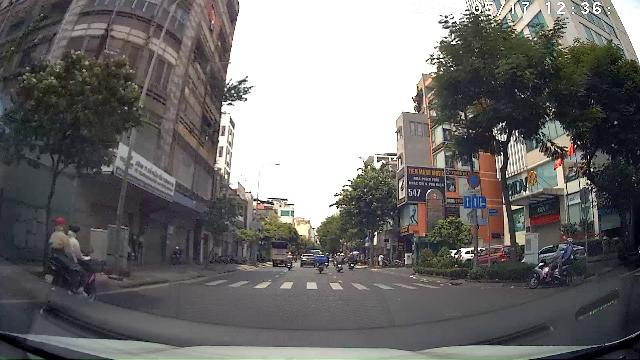131a-cam-do-xe: (467, 173, 480, 188)
